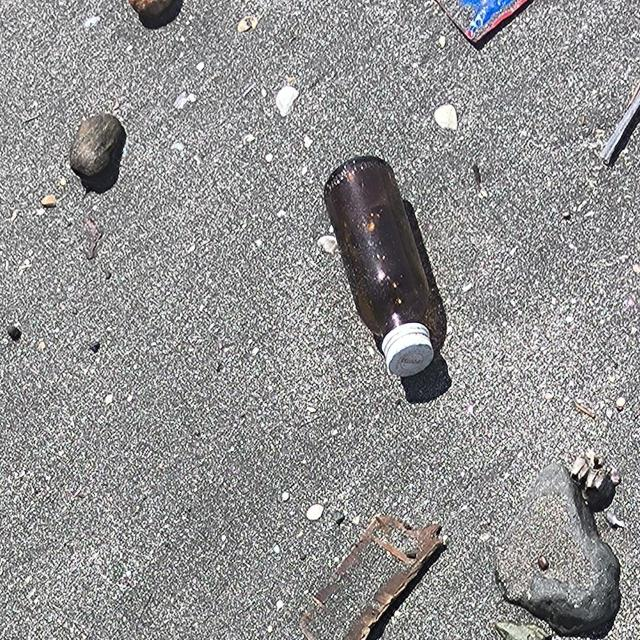glass_waste: (324, 157, 435, 380)
